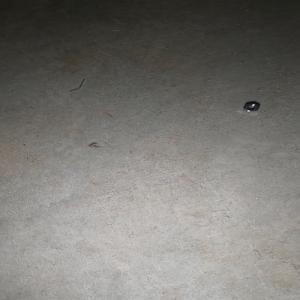Nut: (242, 101, 260, 112)
